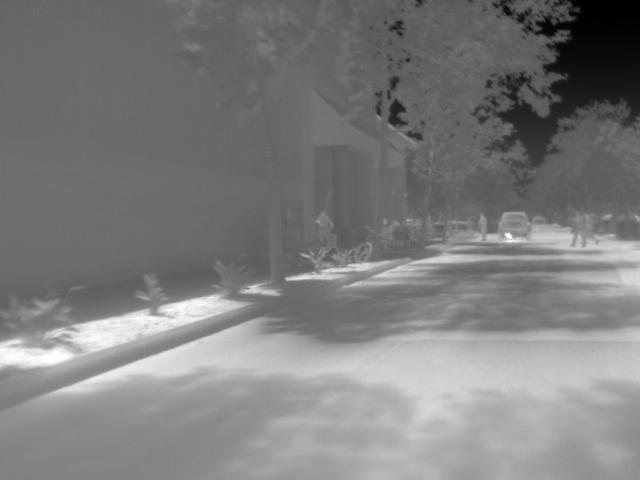car: (497, 210, 532, 239)
person: (567, 209, 583, 249), (580, 214, 599, 246), (381, 219, 404, 242), (476, 213, 491, 241), (317, 210, 336, 232)
